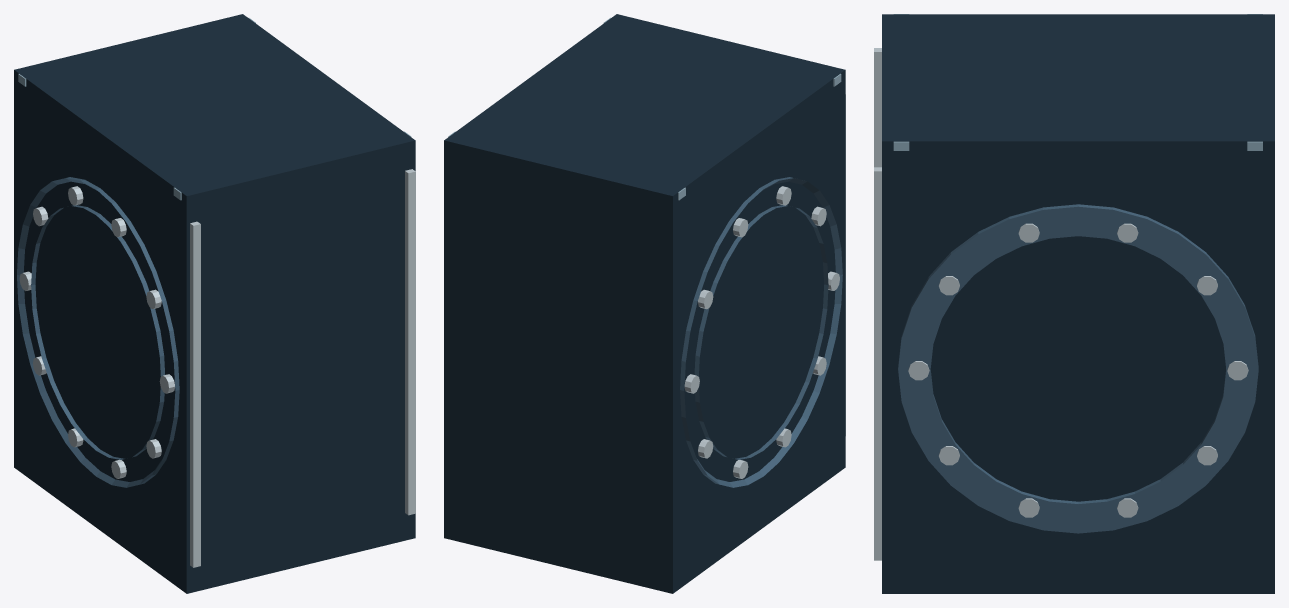
File: 16_L75_FastBeamBlankingGate.fbx
3 views of the same model, side by side, from view 1: azimuth 30°, elevation 25°; view 2: azimuth 150°, elevation 25°; view 3: azimuth 270°, elevation 25° (orthographic). The views are drawn at different scales.
Parts seen in each view (by area): view 1: FastBeamBlankingGate; view 2: FastBeamBlankingGate; view 3: FastBeamBlankingGate.
Part boxes in pixels (x1,y1,x2,y2): FastBeamBlankingGate: (14,14,415,593); FastBeamBlankingGate: (444,14,845,593); FastBeamBlankingGate: (874,14,1274,593).
Size of the model in its own units: 68.5 by 108 by 86.71.
